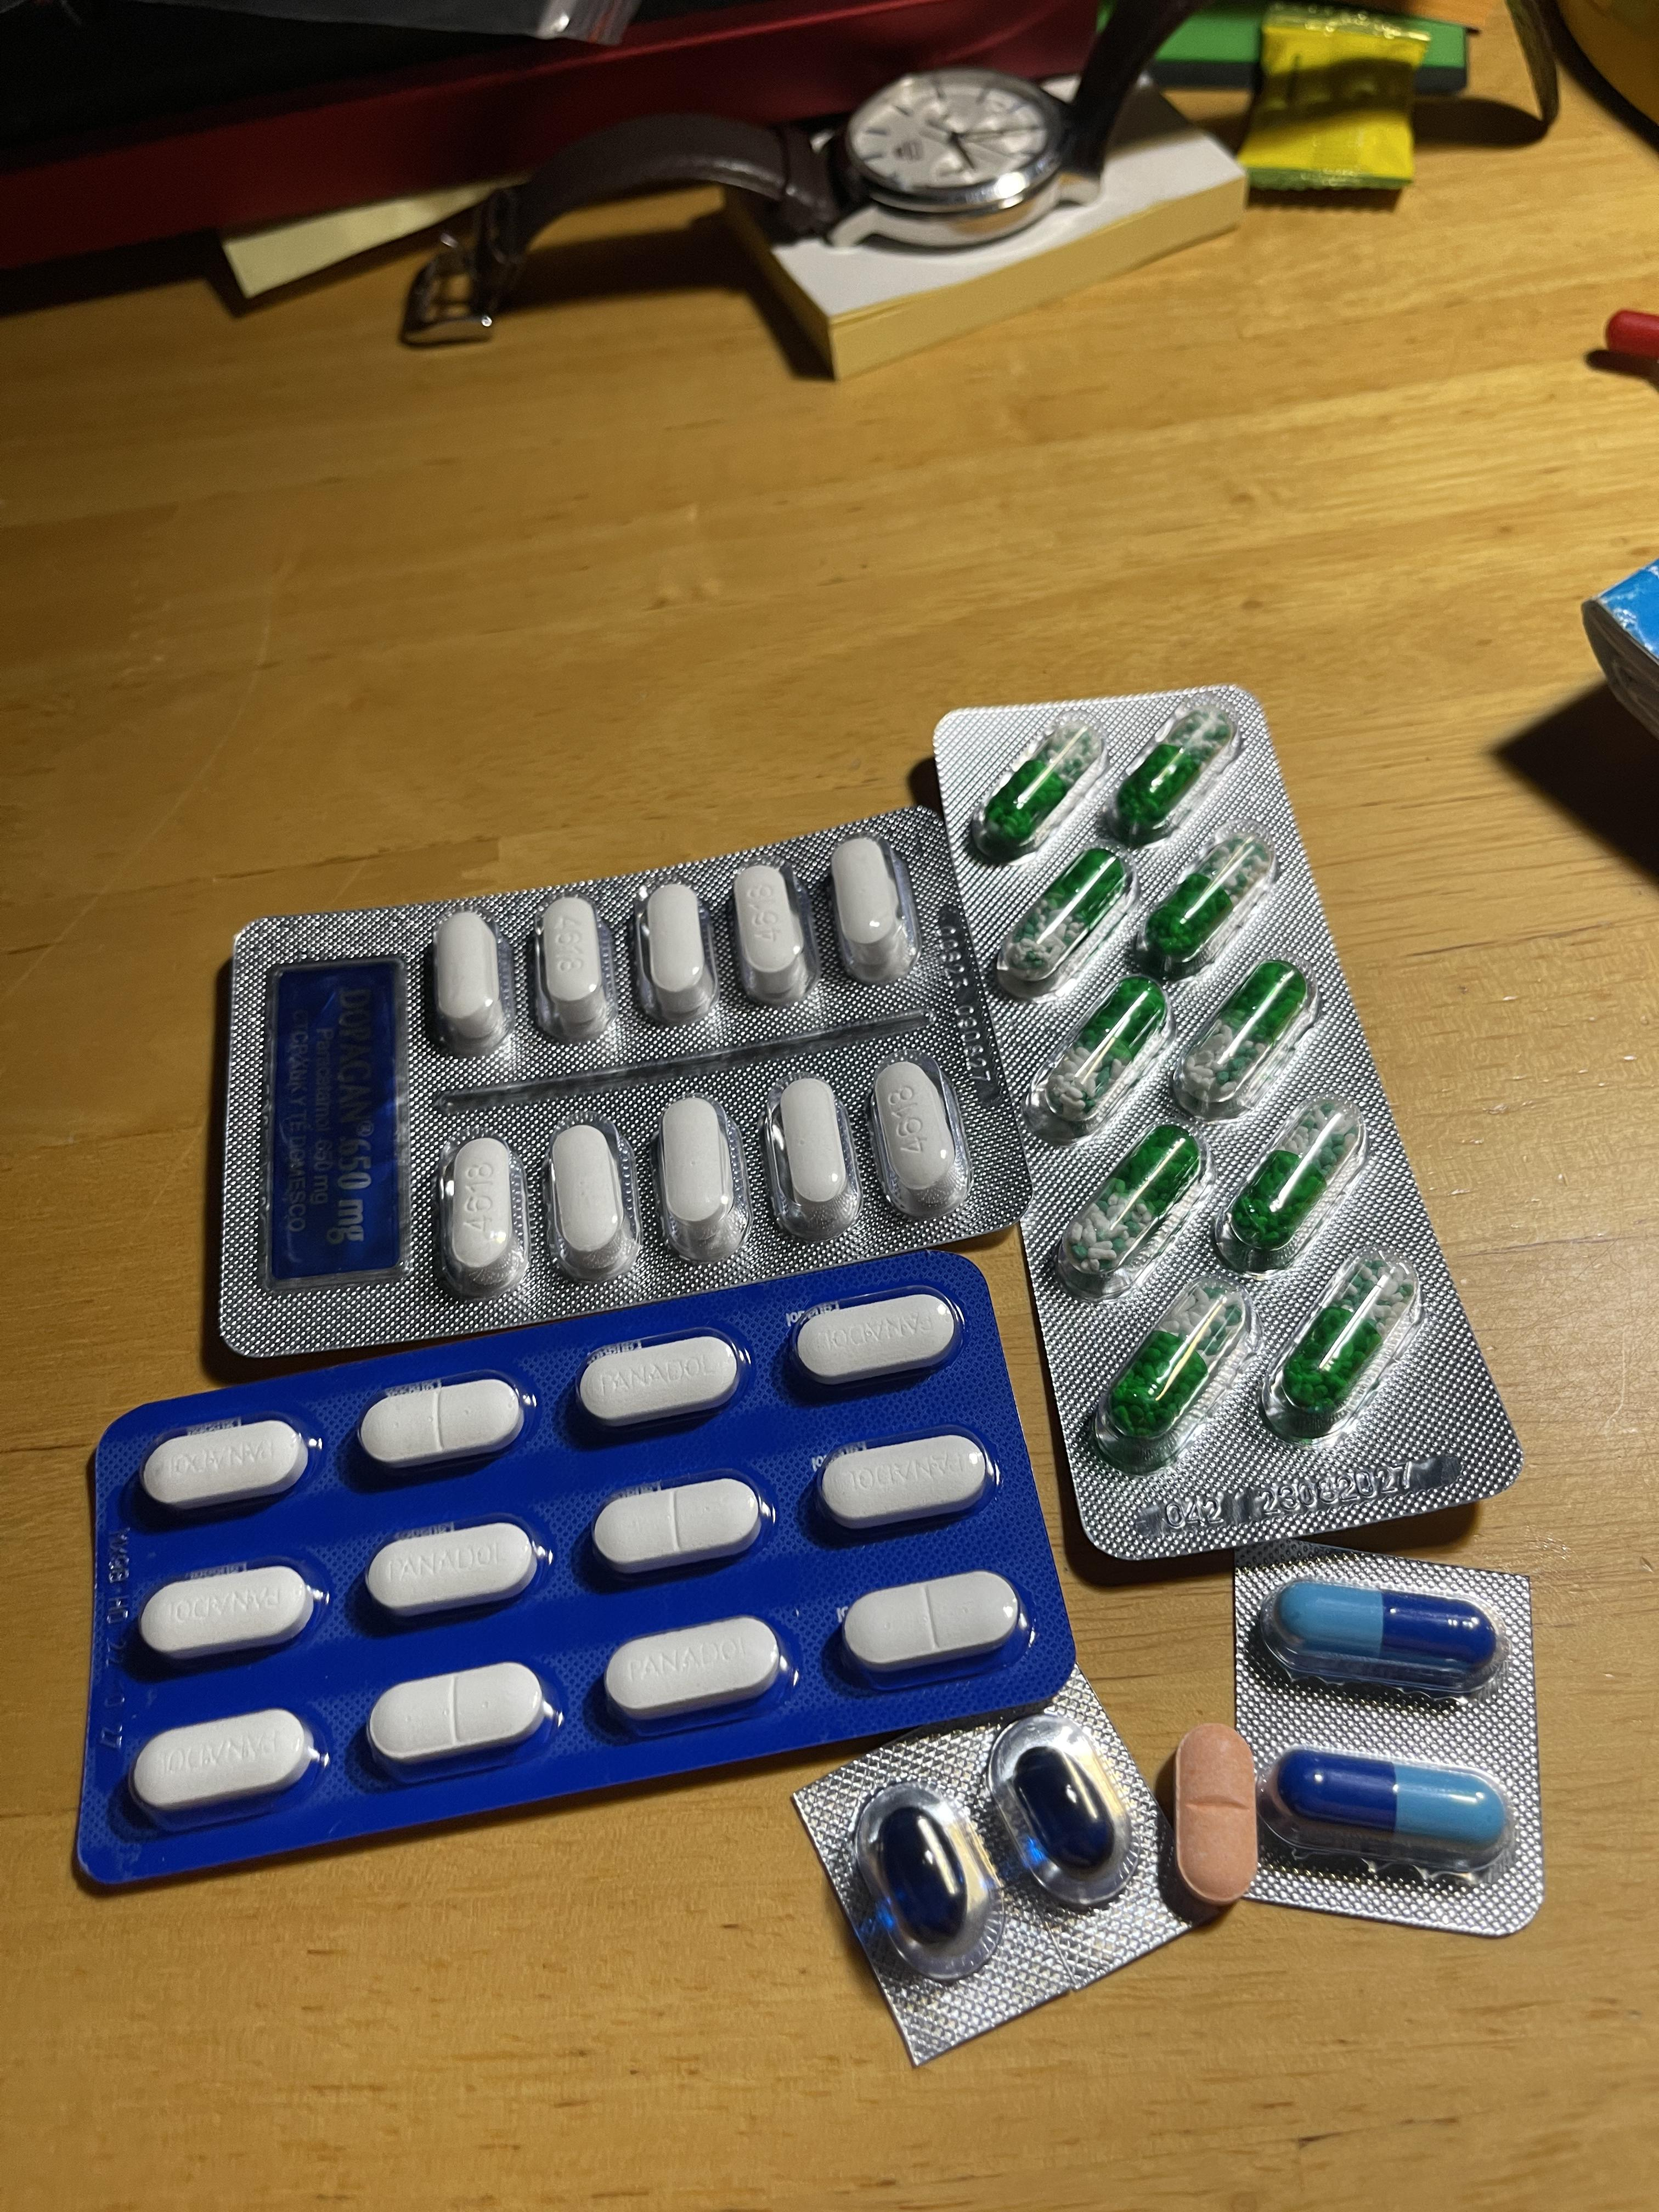Lincomyxin_500mg: (878, 1804, 974, 1944), (1012, 1747, 1115, 1872)
Loratadine_10mg: (1171, 1721, 1260, 1909)
Paracetamol_350mg: (131, 1707, 322, 1820), (605, 1618, 789, 1735), (842, 1569, 1021, 1686), (369, 1662, 556, 1773), (139, 1561, 319, 1662), (366, 1521, 540, 1622), (594, 1475, 769, 1575), (817, 1432, 990, 1531), (141, 1414, 310, 1515), (359, 1376, 525, 1475), (791, 1291, 958, 1388), (579, 1331, 744, 1428)
Paracetamol_500mg: (763, 1066, 868, 1245), (659, 1094, 748, 1264), (870, 1062, 965, 1217), (549, 1122, 636, 1278), (441, 1136, 526, 1291), (730, 857, 816, 1003), (537, 897, 615, 1040), (434, 916, 509, 1055), (640, 881, 716, 1017), (831, 834, 904, 963)
Paracetamol_650mg: (1260, 1249, 1424, 1439), (1216, 1078, 1375, 1264), (1061, 1111, 1215, 1294), (1169, 960, 1316, 1122), (1138, 826, 1281, 981), (1039, 967, 1173, 1125), (1108, 704, 1244, 843), (972, 716, 1103, 859), (999, 845, 1127, 989), (1107, 1306, 1239, 1446)
pill: (1274, 1752, 1506, 1851), (1274, 1583, 1500, 1672)
